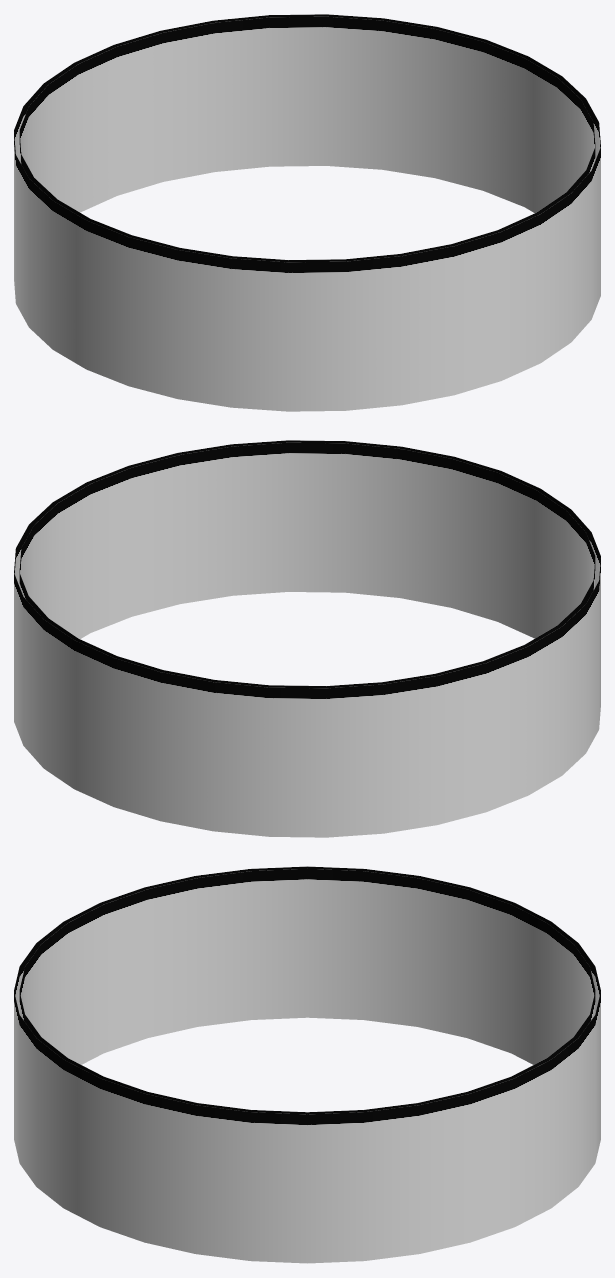
The model's file is DefrostRange.fbx.
3 views of the same model, one above another, from view 1: azimuth 30°, elevation 25°; view 2: azimuth 150°, elevation 25°; view 3: azimuth 270°, elevation 25° (orthographic).
Parts seen in each view (by area): view 1: Cylinder; view 2: Cylinder; view 3: Cylinder.
Part boxes in pixels (<box>): Cylinder: <box>14,14,600,411</box>; Cylinder: <box>14,440,600,837</box>; Cylinder: <box>14,866,600,1263</box>.
Size of the model in its own units: 200 by 55.99 by 200.
